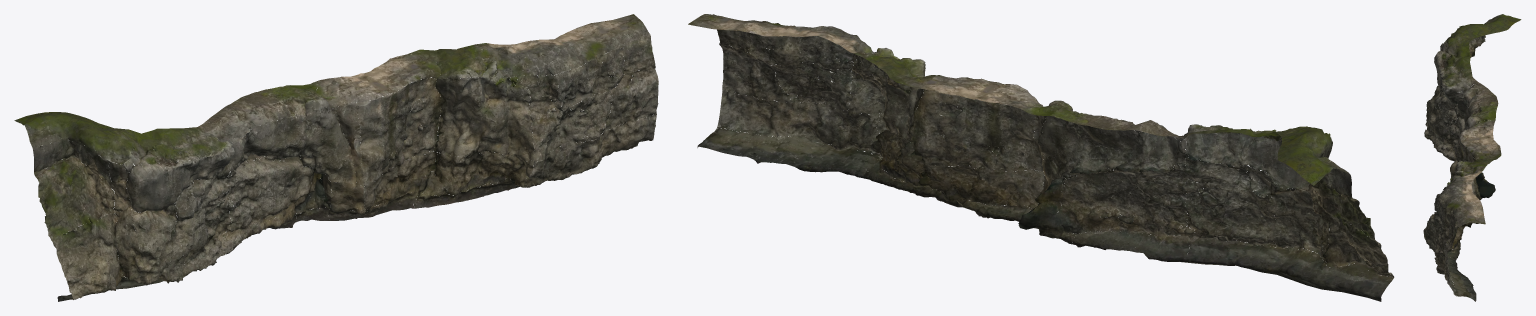
Rendered from coastal-cliff.glb.
3 views of the same model, side by side, from view 1: azimuth 30°, elevation 25°; view 2: azimuth 150°, elevation 25°; view 3: azimuth 270°, elevation 25° (orthographic). The views are drawn at different scales.
Visible parts, largest first — view 1: CoastalCliff; view 2: CoastalCliff; view 3: CoastalCliff.
Part boxes in pixels (x1=…): CoastalCliff: x1=14, y1=14, x2=658, y2=301; CoastalCliff: x1=688, y1=14, x2=1394, y2=301; CoastalCliff: x1=1423, y1=14, x2=1521, y2=301.
Bounding box in the file's own units: 40.96 × 10.06 × 8.66.
1 material, 1 textured.
